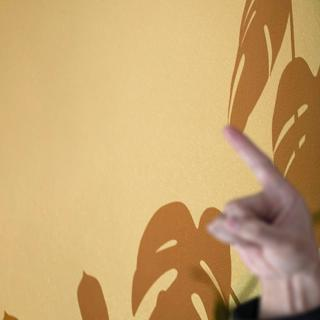IRRITATED: (198, 120, 320, 279)
